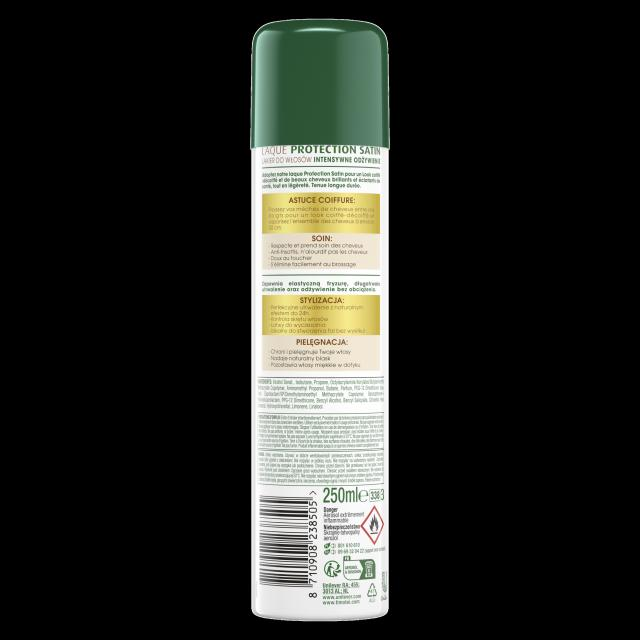GHS_Symbol_FLAME: (361, 506, 385, 544)
